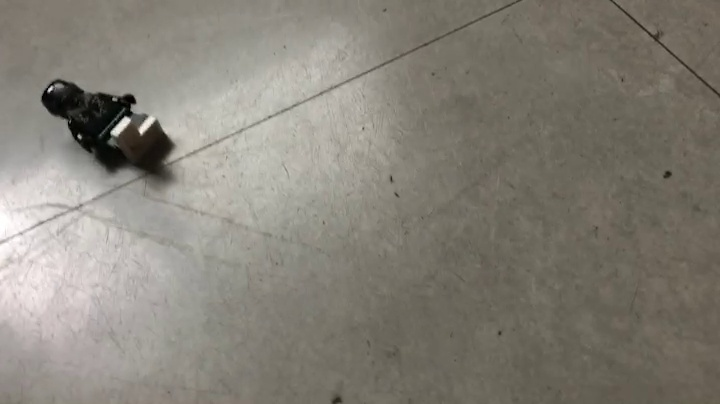people: (40, 78, 176, 170)
